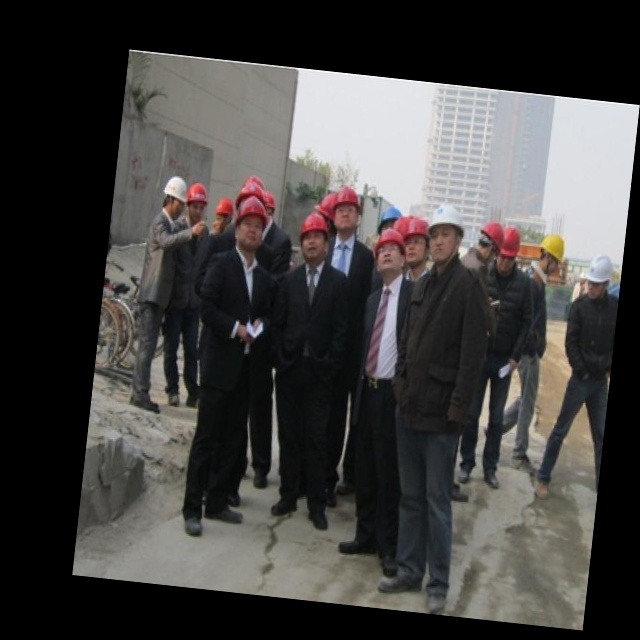Con_Casco: (295, 210, 331, 268), (535, 231, 567, 282), (159, 172, 191, 222), (583, 251, 616, 296)
